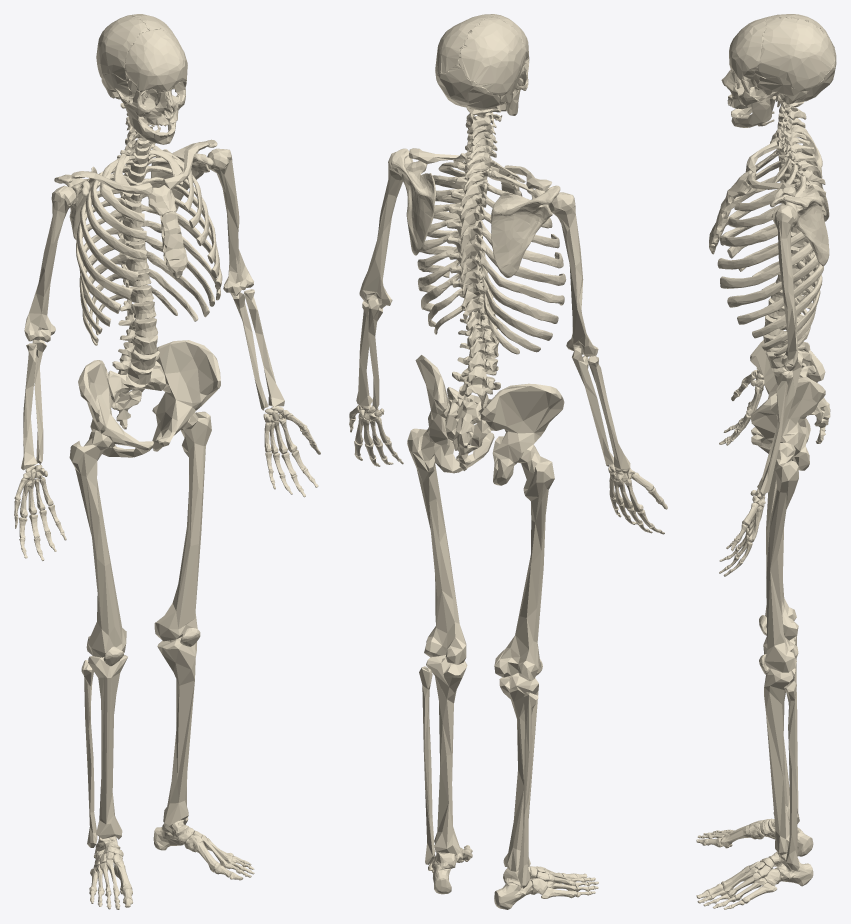
File: esqueleto-leve.glb
3 views of the same model, side by side, from view 1: azimuth 30°, elevation 25°; view 2: azimuth 150°, elevation 25°; view 3: azimuth 270°, elevation 25° (orthographic). The views are drawn at different scales.
Visible parts, largest first — view 1: FMA24474, FMA24475, FMA16587, FMA24478, FMA52734, FMA24477, FMA16586, FMA23130, FMA23131, FMA52788, FMA16202, FMA24480 (+17 smaller); view 2: FMA24474, FMA24475, FMA16586, FMA52788, FMA13395, FMA24478, FMA24477, FMA16587, FMA23130, FMA13396, FMA16202, FMA23131 (+14 smaller); view 3: FMA24475, FMA52789, FMA24478, FMA16587, FMA23131, FMA13396, FMA24481, FMA52734, FMA16586, FMA23465, FMA24474, FMA52739 (+24 smaller).
Boxes of the visible parts, x1,y1,x2,y2 form: FMA24474: (69,429,126,657); FMA24475: (154,411,211,641); FMA16587: (152,340,220,451); FMA24478: (157,636,196,826); FMA52734: (125,29,187,93); FMA24477: (88,655,127,839); FMA16586: (78,360,153,457); FMA23130: (24,185,76,342); FMA23131: (207,148,253,295); FMA52788: (96,15,149,81); FMA16202: (107,361,166,429); FMA24480: (81,660,97,847); FMA24474: (494,444,554,680); FMA24475: (407,427,466,664); FMA16586: (480,383,564,485); FMA52788: (458,16,526,96); FMA13395: (491,185,560,277); FMA24478: (426,655,467,854); FMA24477: (499,673,538,871); FMA16587: (415,355,494,473); FMA23130: (549,192,598,356); FMA13396: (391,148,435,255); FMA16202: (445,387,491,470); FMA23131: (359,152,412,308); FMA24475: (764,442,798,672); FMA52789: (755,17,834,91); FMA24478: (764,668,795,855); FMA16587: (751,377,825,470); FMA23131: (771,204,797,370); FMA13396: (770,184,829,266); FMA24481: (784,680,799,870); FMA52734: (729,17,766,80); FMA16586: (750,331,825,442); FMA23465: (757,371,792,496); FMA24474: (765,462,798,640); FMA52739: (753,77,807,107).
Bounding box in the file's own units: 0.6478 × 1.71 × 0.254.
